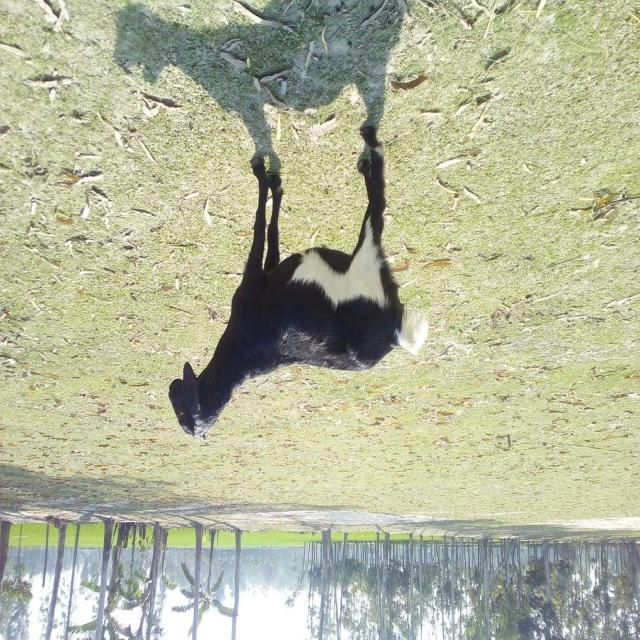Goat: (168, 126, 430, 442)
